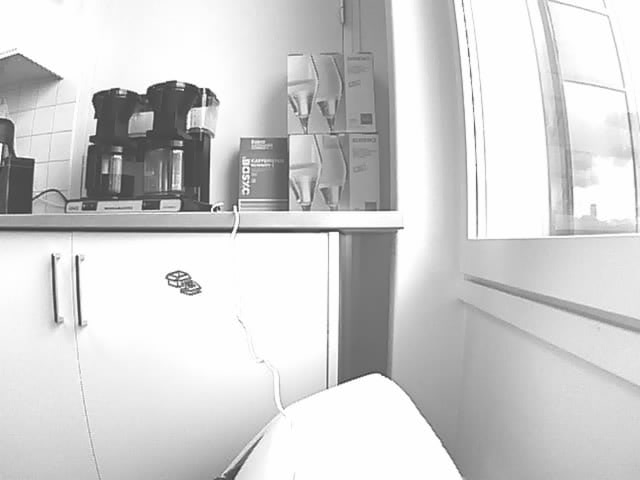not empty coffee: (84, 144, 137, 200)
